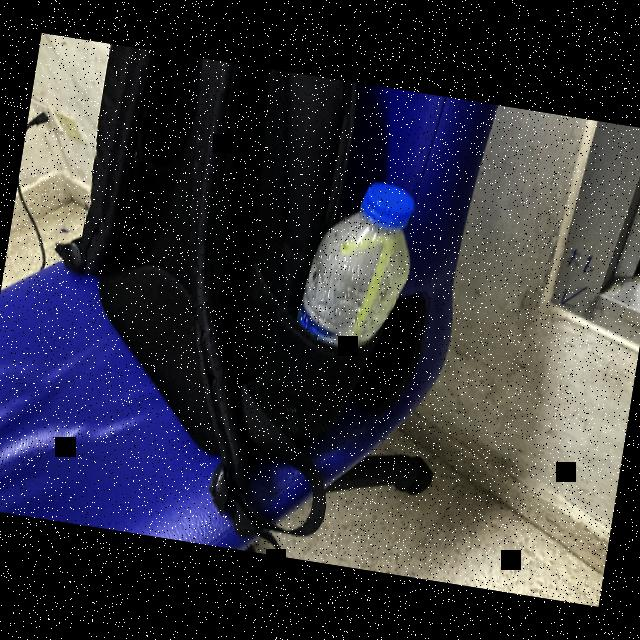plastic_bottle: (291, 169, 429, 360)
plastic_bottle_cap: (361, 178, 417, 230)
straw: (332, 230, 394, 344)
